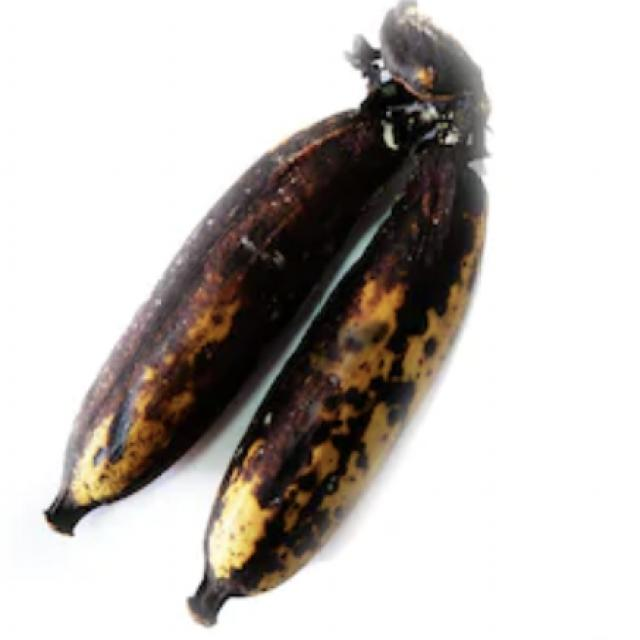rotten-banana: (55, 80, 397, 497), (203, 156, 507, 602)
